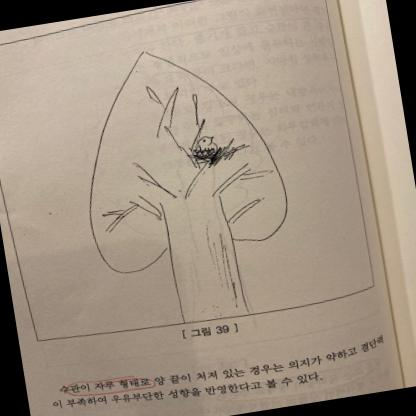bird: (191, 131, 240, 169)
branch_cut: (116, 142, 264, 228)
crown_mushroom: (64, 32, 294, 276)
trunk_bark: (165, 220, 246, 310)
